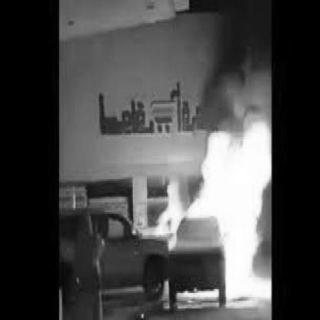Fire: (150, 78, 272, 308)
